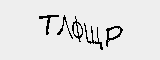Л: (56, 13, 70, 36)
Р: (104, 24, 122, 49)
Т: (39, 14, 56, 35)
Ф: (71, 16, 82, 41)
Щ: (85, 24, 103, 49)
